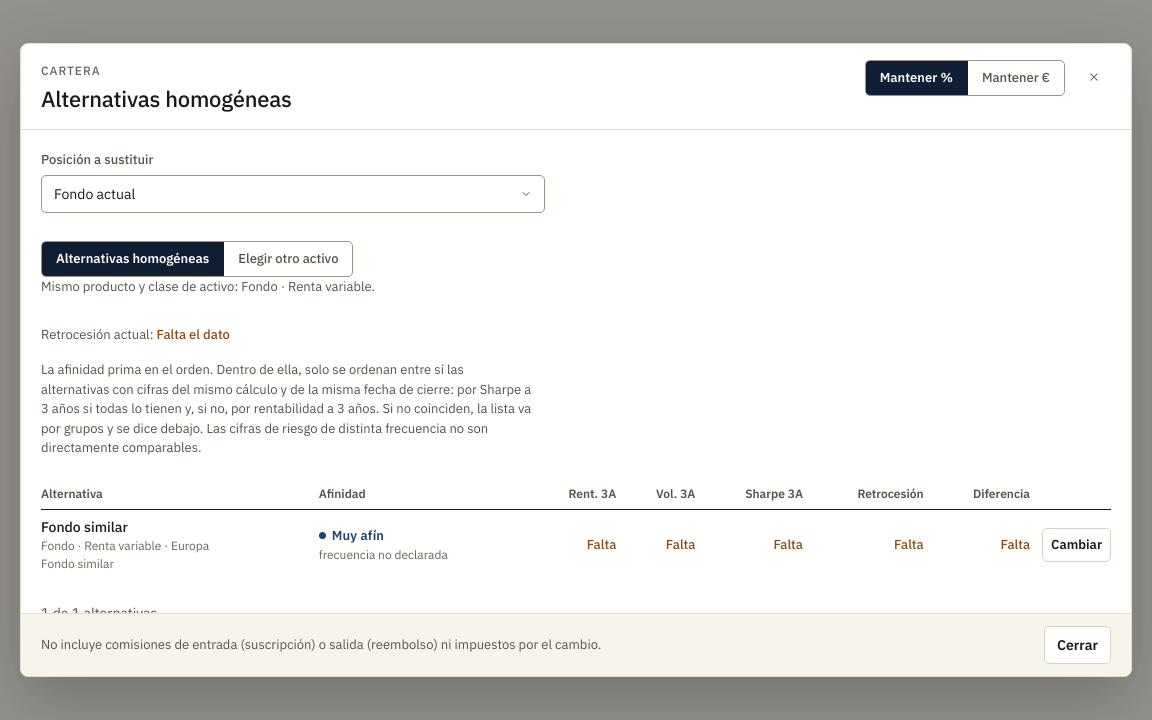
sustituir una posición › descarta respuestas de un modo anterior y permite reintentar un catálogo fallido
Later steps or results of the test are not shown.
Click the button "Elegir otro activo".
click(288, 259)  # box [223, 242, 352, 276]
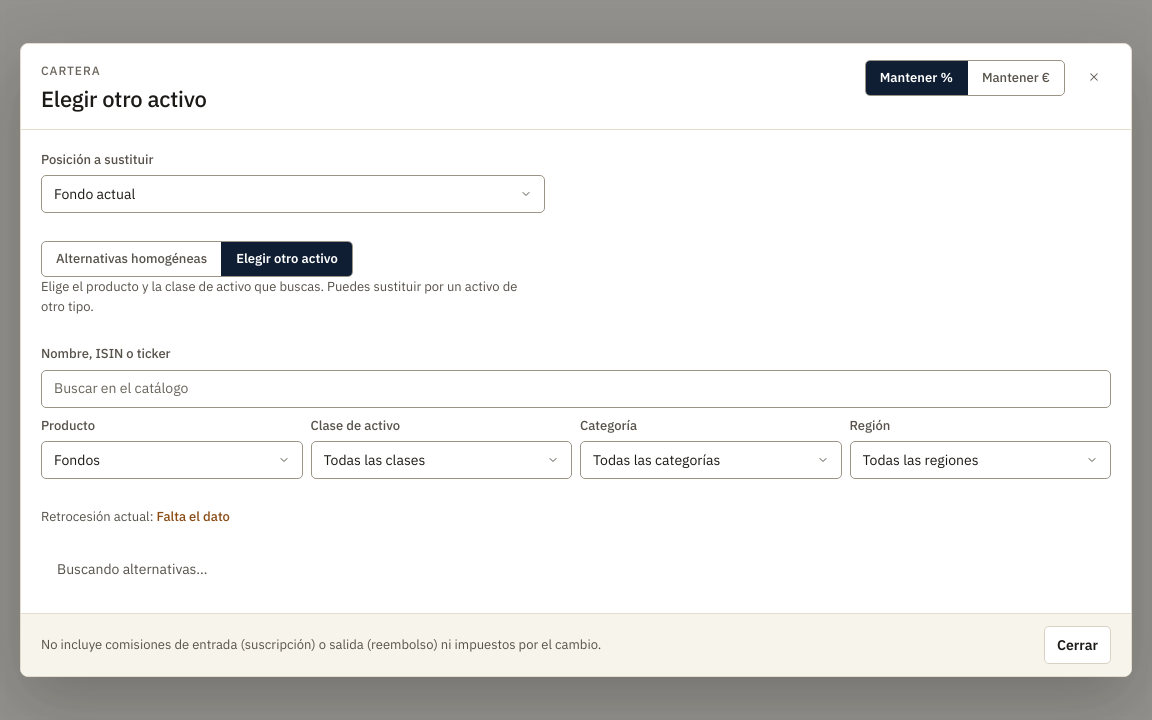
Click the button "Alternativas homogéneas".
click(132, 259)  # box [42, 242, 221, 276]
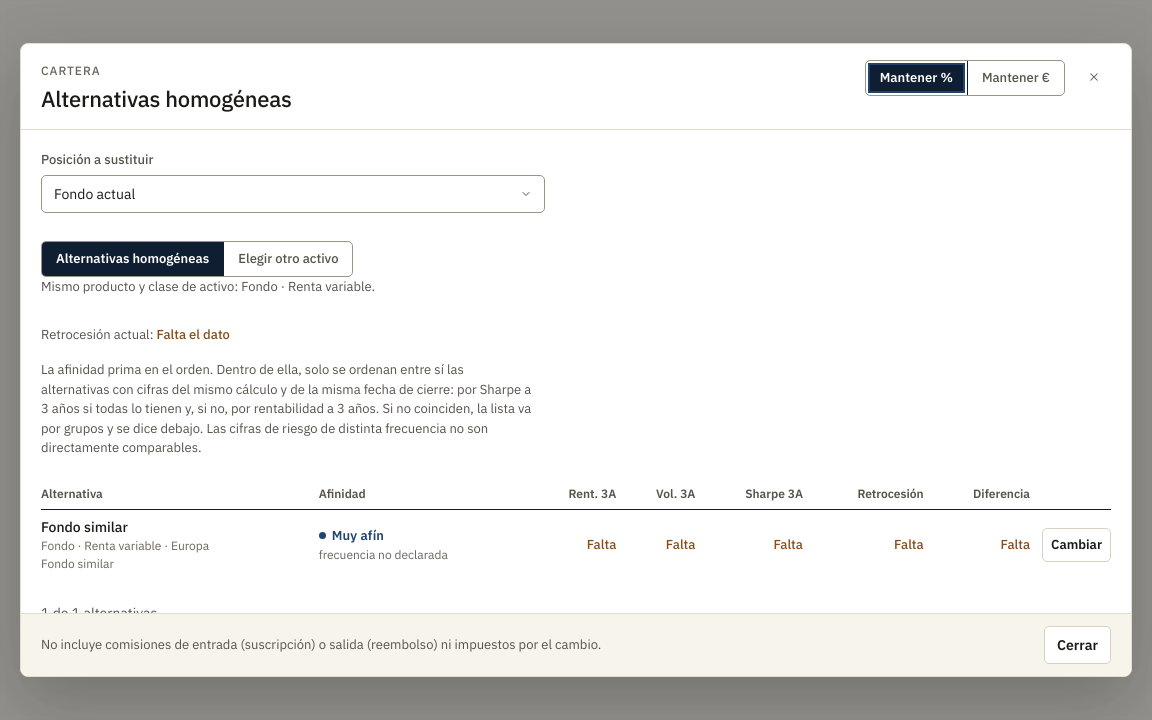
Click the button "Elegir otro activo".
click(288, 259)  # box [223, 242, 352, 276]
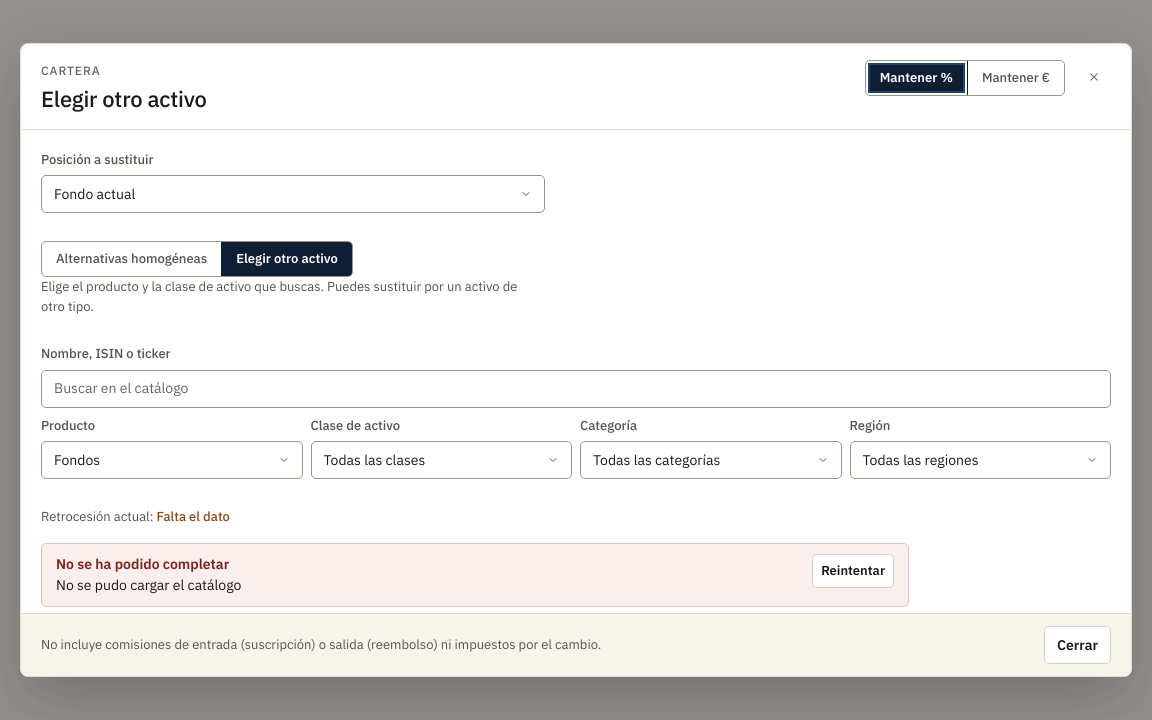
Expected: the text "No se pudo cargar el catálogo" is shown, [56, 576, 241, 594]
